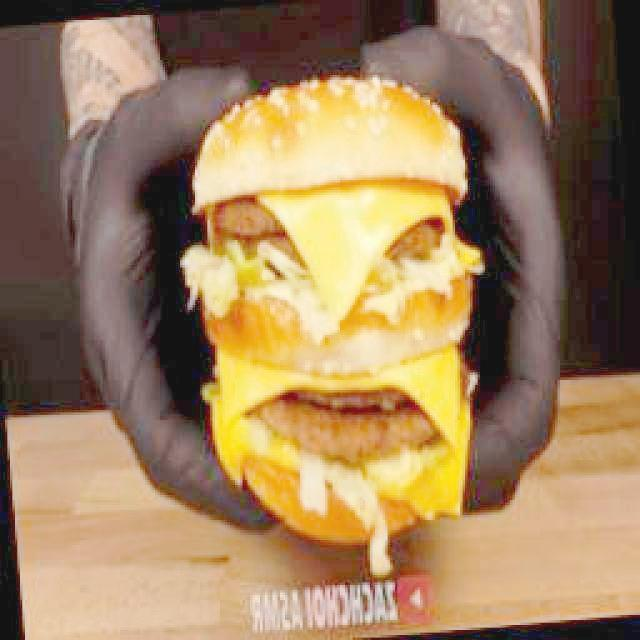burger: (180, 70, 484, 566)
